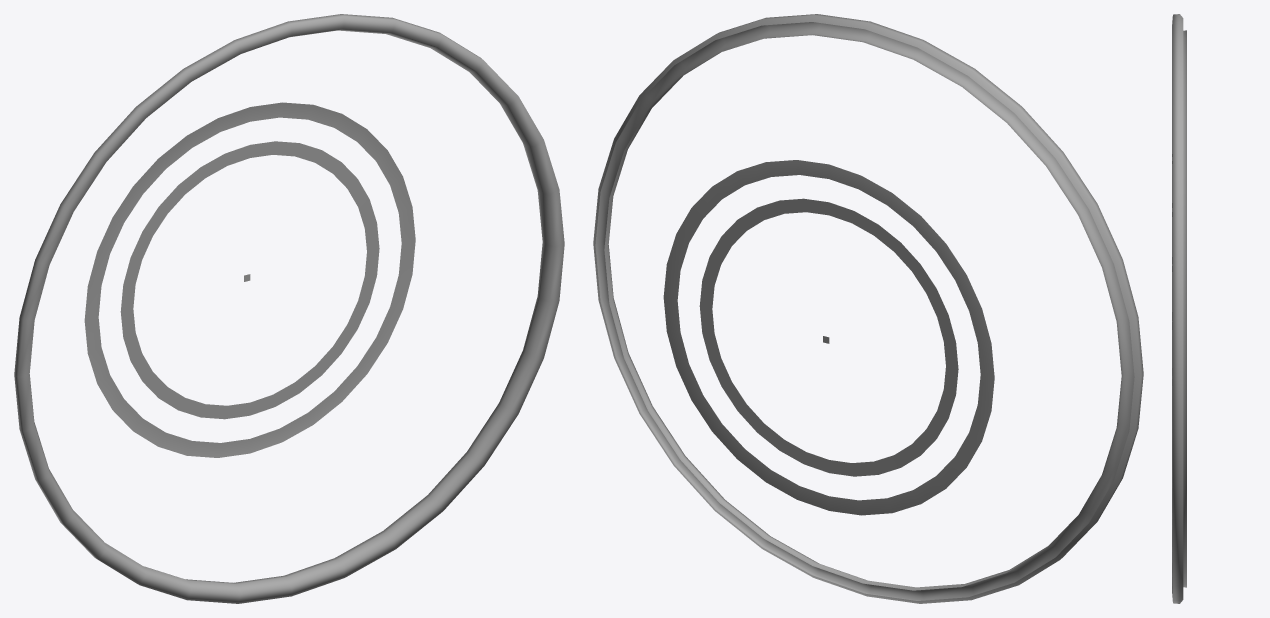
Rendered from MeshPan_23_0_GeomSubset_2.obj.
The picture shows the model from 3 angles, left to right: view 1: azimuth 30°, elevation 25°; view 2: azimuth 150°, elevation 25°; view 3: azimuth 270°, elevation 25°; orthographic projection. The views are drawn at different scales.
Parts seen in each view (by area): view 1: MeshPan_23_0_GeomSubset_2; view 2: MeshPan_23_0_GeomSubset_2; view 3: MeshPan_23_0_GeomSubset_2.
Part boxes in pixels (x1,y1,x2,y2): MeshPan_23_0_GeomSubset_2: (14,14,564,603); MeshPan_23_0_GeomSubset_2: (593,14,1143,603); MeshPan_23_0_GeomSubset_2: (1172,14,1186,603).
Bounding box in the file's own units: 0.25 × 0.25 × 0.0355.
